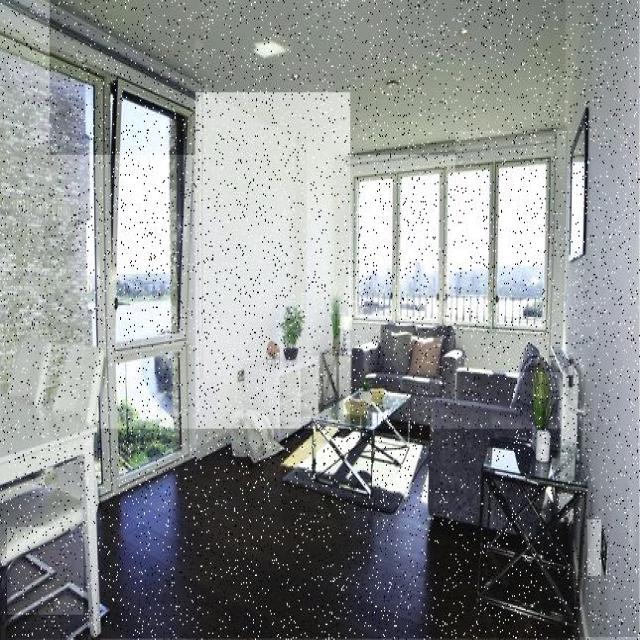Wall: (98, 429, 574, 639), (50, 0, 590, 155), (196, 92, 350, 454), (566, 0, 639, 637), (456, 131, 567, 372), (7, 527, 83, 615), (7, 592, 88, 639), (7, 559, 41, 595), (588, 520, 601, 576)
